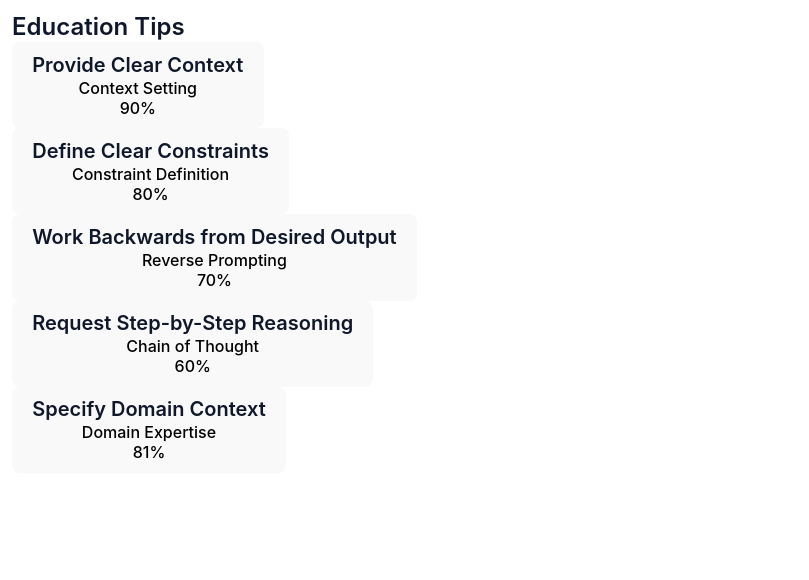
Scenario: EducationPanel Component › Expand/Collapse Functionality › should collapse expanded tip when clicked again
The image size is (809, 580).
Click the heading "Provide Clear Context" at [138, 65], box [32,53,243,78]
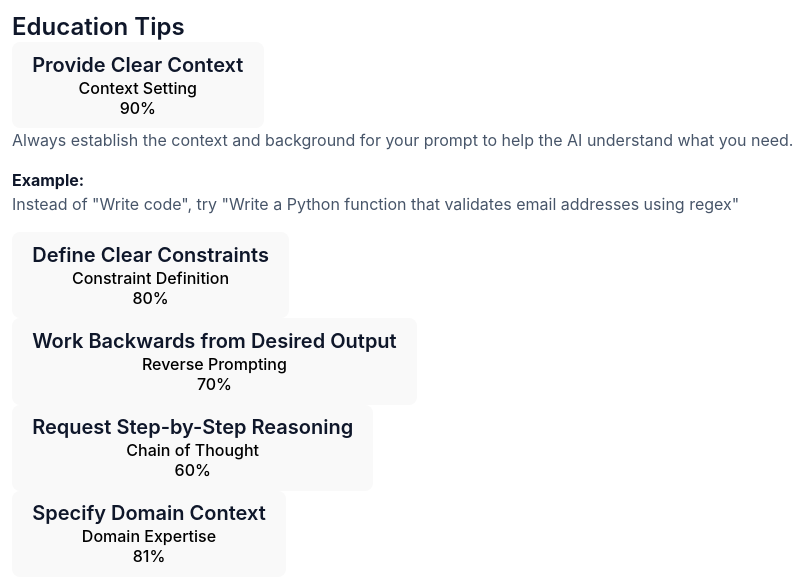
Click the heading "Provide Clear Context" at [138, 65], box [32,53,243,78]
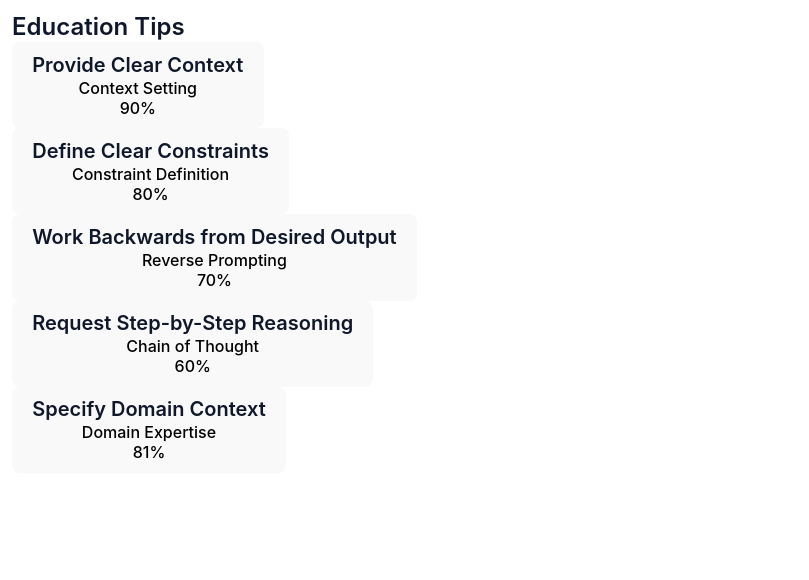
expect the text "Always establish the context and background" is gone: met
